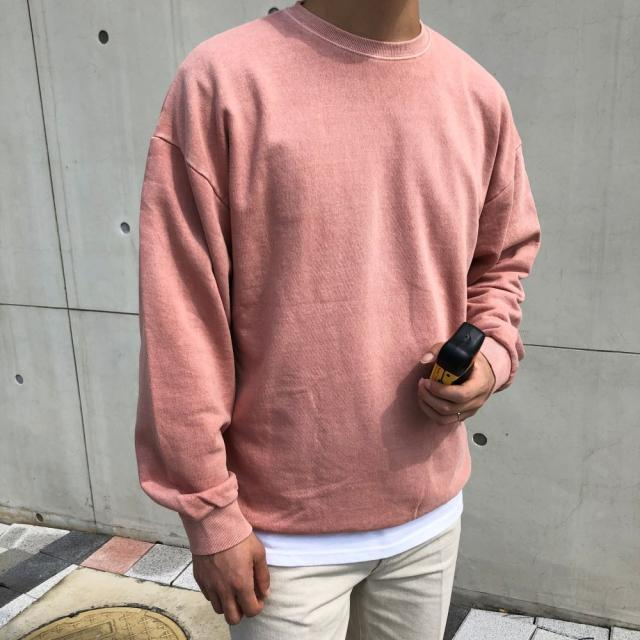short sleeve shirt: (242, 490, 484, 566)
sweater: (129, 1, 543, 559)
trousers: (223, 516, 462, 640)
